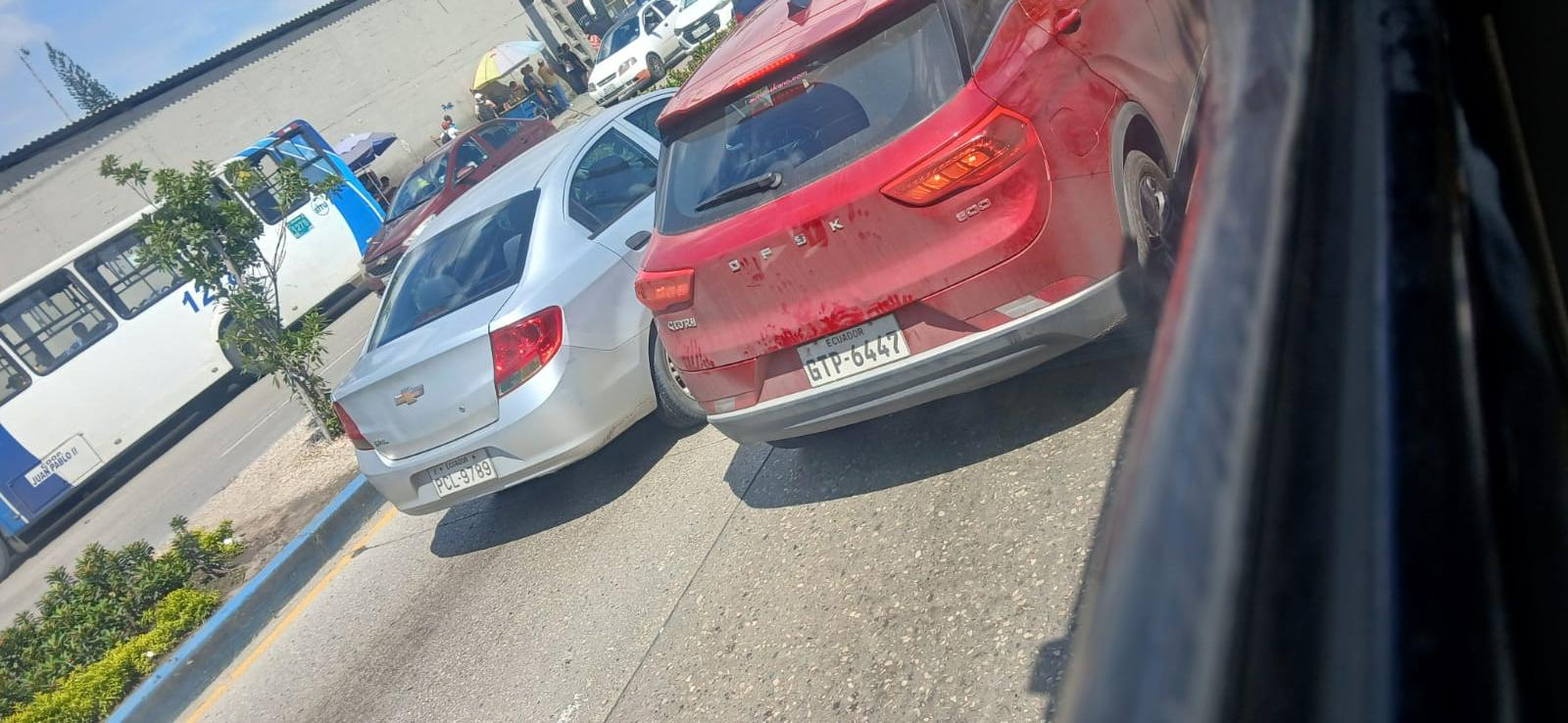license_plate: (800, 319, 909, 385), (428, 452, 497, 495)
